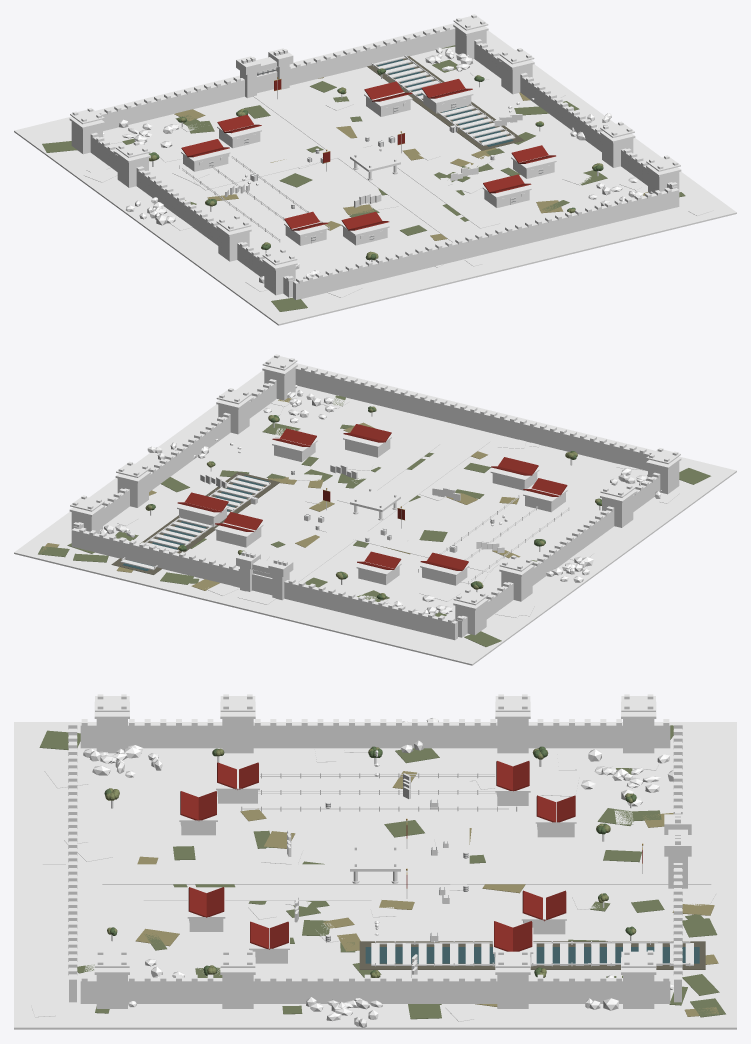
File: Roman_Frontier_Ultra.glb
3 renders of one model, top to bottom at view 1: azimuth 30°, elevation 25°; view 2: azimuth 150°, elevation 25°; view 3: azimuth 270°, elevation 25°, orthographic. The views are drawn at different scales.
Parts seen in each view (by area): view 1: Frontier earth foundation, Fort cross wall, Fort cross wall.001, Main military road, Great defensive curtain wall, Great defensive curtain wall.001, Northern road, Western road, River bed, Frontier river, Shrine roof, Watchtower stone base.001 (+6 smaller); view 2: Frontier earth foundation, Fort cross wall.001, Fort cross wall, Main military road, Great defensive curtain wall, Great defensive curtain wall.001, Northern road, Western road, River bed, Frontier river, Shrine roof, Watchtower stone base.002 (+6 smaller); view 3: Frontier earth foundation, Great defensive curtain wall, Main military road, Great defensive curtain wall.001, Western road, Northern road, River bed, Frontier river, Shrine roof, Watchtower stone base.002, Watchtower stone base.003, Watchtower stone base.001 (+12 smaller).
Boxes of the visible parts, x1,y1,x2,y2 form: Frontier earth foundation: (14, 23, 736, 325); Fort cross wall: (293, 188, 679, 299); Fort cross wall.001: (101, 26, 455, 130); Main military road: (253, 89, 482, 242); Great defensive curtain wall: (90, 136, 293, 297); Great defensive curtain wall.001: (474, 43, 677, 189); Northern road: (397, 162, 499, 228); Western road: (194, 146, 349, 190); River bed: (367, 56, 524, 150); Frontier river: (377, 59, 513, 146); Shrine roof: (350, 148, 400, 171); Watchtower stone base.001: (218, 229, 249, 261); Frontier earth foundation: (14, 363, 736, 665); Fort cross wall.001: (71, 528, 457, 640); Fort cross wall: (295, 366, 649, 470); Main military road: (237, 434, 489, 604); Great defensive curtain wall: (457, 476, 660, 637); Great defensive curtain wall.001: (73, 383, 276, 529); Northern road: (337, 439, 440, 503); Western road: (344, 528, 498, 572); River bed: (111, 472, 279, 574); Frontier river: (123, 475, 268, 570); Shrine roof: (350, 488, 400, 511); Watchtower stone base.002: (501, 569, 532, 601); Frontier earth foundation: (14, 722, 736, 1029); Great defensive curtain wall: (80, 722, 670, 748); Main military road: (102, 864, 711, 884); Great defensive curtain wall.001: (80, 978, 670, 1003); Western road: (438, 776, 469, 872); Northern road: (143, 887, 371, 900); River bed: (359, 941, 705, 969); Frontier river: (365, 947, 699, 963); Shrine roof: (350, 847, 400, 871); Watchtower stone base.002: (497, 719, 528, 753); Watchtower stone base.003: (623, 719, 654, 753); Watchtower stone base.001: (222, 719, 253, 753).
Bounding box in the file's own units: 185 × 38.9 × 184.
